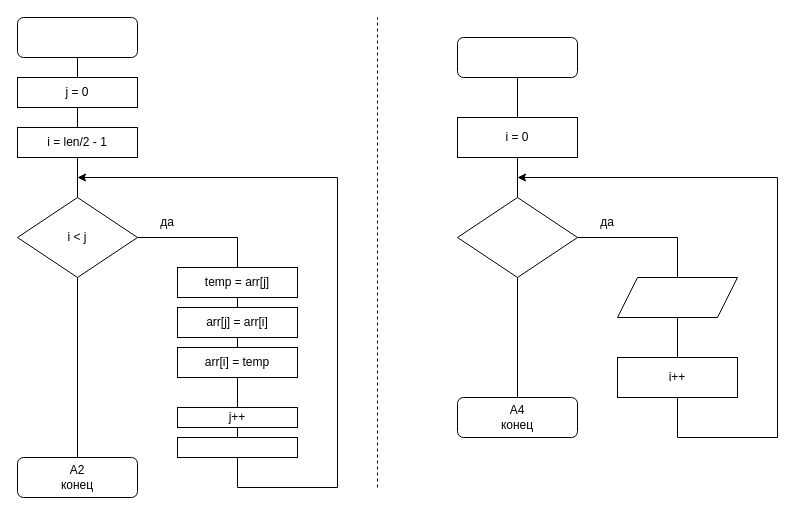
Some shapes in this 803 by 515 pixel diagram are drawn without their labels. Each missing label, with the centre of its shape:
A2 начало: point (77, 37)
A4 начало: point (517, 57)
arr[i]: point (677, 297)
i < len-counter: point (517, 237)
i--: point (237, 447)
